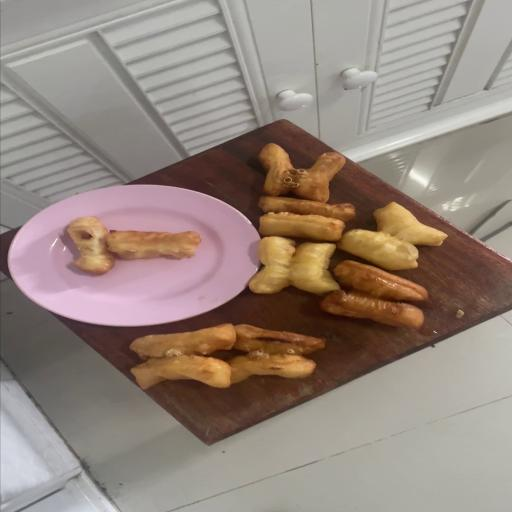street_burnt_defect: (106, 231, 204, 261)
street_golden_defect: (130, 323, 324, 389)
